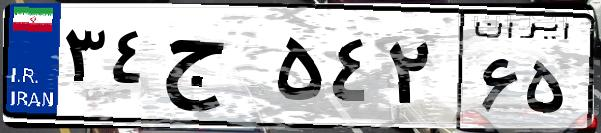2: (385, 28, 445, 110)
3: (57, 26, 110, 100)
4: (330, 28, 385, 110), (110, 28, 158, 98)
5: (270, 28, 330, 110), (525, 38, 570, 115)
6: (475, 38, 525, 113)
ج: (158, 20, 270, 120)
